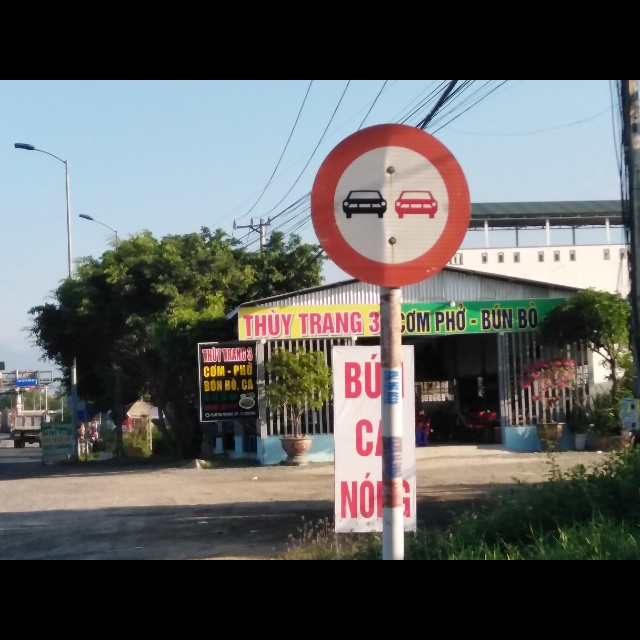Cấm vượt: (304, 121, 472, 286)
